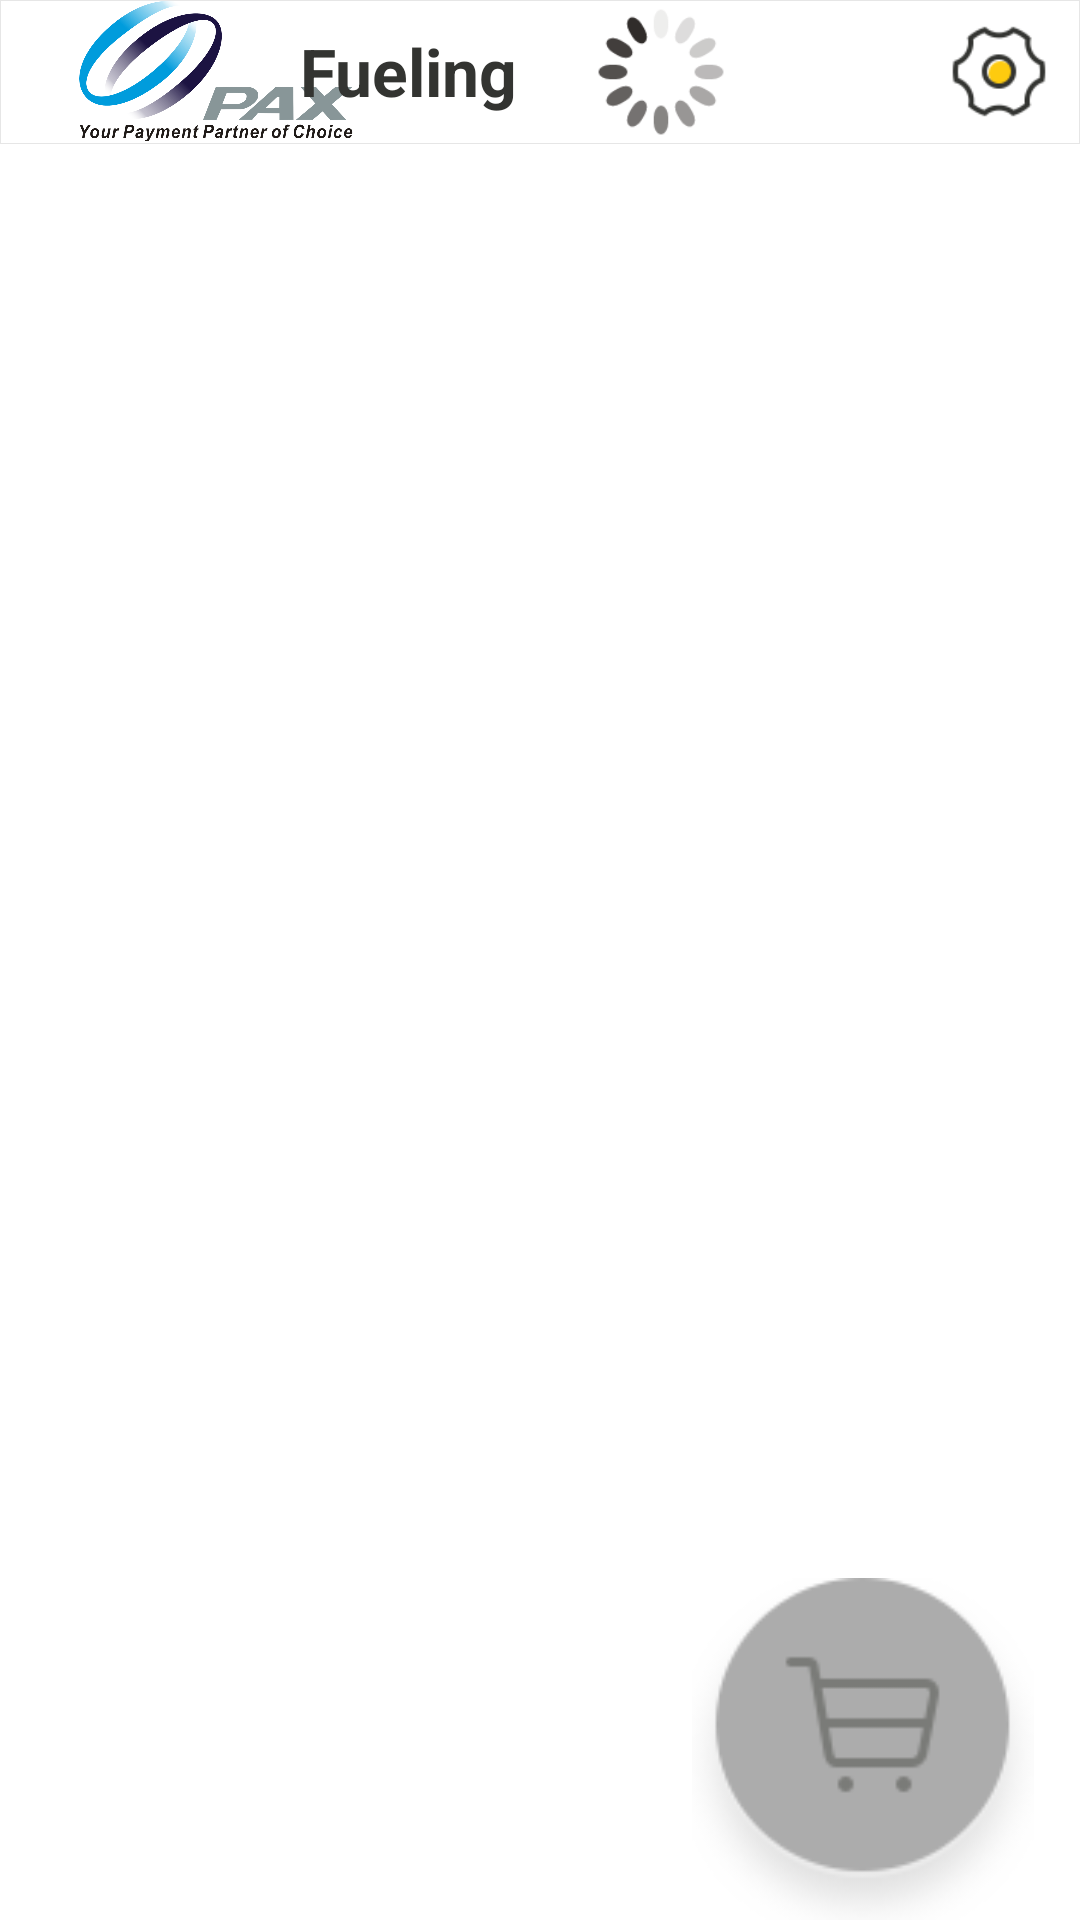

Where icons sit on this 1080px x 1920px app screen, as region(x1, y1, x2, y2):
cart: region(715, 1578, 1010, 1887)
settings: region(952, 26, 1046, 117)
